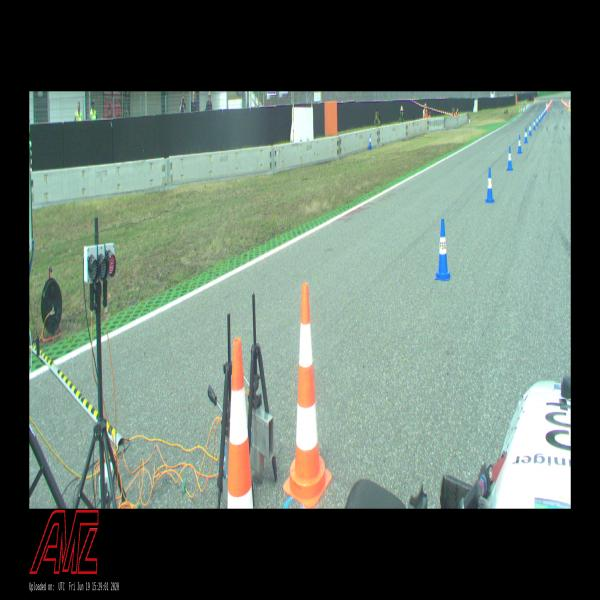blue_cone: (435, 219, 451, 281), (486, 168, 494, 202), (507, 146, 513, 170), (517, 135, 522, 153), (524, 128, 528, 143), (528, 123, 532, 136), (369, 134, 372, 150), (533, 118, 536, 130), (536, 116, 538, 126), (538, 113, 540, 122), (541, 112, 542, 120)
large_orange_cone: (283, 283, 332, 508), (228, 338, 254, 509)
